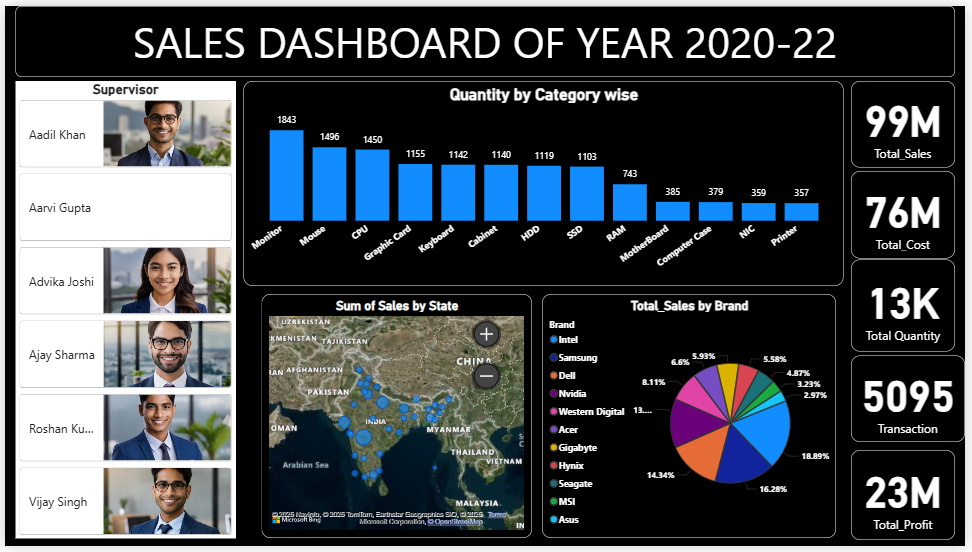

This screenshot's page, from the dashboard's own definition file:
{"tool":"powerbi","page":{"name":"Page 1","canvas":[1280,720],"ordinal":0},"visuals":[{"type":"textbox","box":[13.2,0,1252.9,94.5],"z":0},{"type":"card","fields":{"Values":["Sum(Sales_Data.Total_Sales)"]},"box":[1128.4,99.4,138.6,115.1],"z":1000},{"type":"card","fields":{"Values":["Sum(Sales_Data.Quantity)"]},"box":[1128.4,338.7,138.6,122.9],"z":2000},{"type":"card","fields":{"Values":["Sum(Sales_Data.Total_Cost)"]},"box":[1128.4,219.7,138.6,116.4],"z":3000},{"type":"card","fields":{"Values":["CountNonNull(Sales_Data.Order_Number)"]},"box":[1128.3,465.5,151.7,115.1],"z":4000},{"type":"card","fields":{"Values":["Sum(Sales_Data.Total_Profit)"]},"box":[1128.4,591,138.6,120.3],"z":5000},{"type":"columnChart","title":"Quantity by Category wise","fields":{"Category":["Sales_Data.Category"],"Y":["Sum(Sales_Data.Quantity)"]},"box":[317.7,99.4,800.2,273.3],"z":6000},{"type":"pieChart","title":"Total_Sales by Brand","fields":{"Category":["Sales_Data.Brand"],"Y":["Sum(Sales_Data.Total_Sales)"]},"box":[716.5,384.4,392.3,325.6],"z":7000},{"type":"map","fields":{"Category":["State_list.State"],"Size":["Sum(Sales_Data.Sales)"]},"box":[342.2,384.6,360.4,325.6],"z":8000},{"type":"advancedSlicerVisual","fields":{"Values":["Supervisor.Supervisor"]},"box":[13.6,99.9,293.8,610.2],"z":9000}]}

Visuals, with their boxes in screenshot pixels (x1, y1, x2, y2), scaled from the page's 1280x720 canvas onto the 972x552 screenshot:
textbox: 10, 0, 961, 72
card - Sum(Sales_Data.Total_Sales): 857, 76, 962, 164
card - Sum(Sales_Data.Quantity): 857, 260, 962, 354
card - Sum(Sales_Data.Total_Cost): 857, 168, 962, 258
card - CountNonNull(Sales_Data.Order_Number): 857, 357, 971, 445
card - Sum(Sales_Data.Total_Profit): 857, 453, 962, 545
"Quantity by Category wise" columnChart: 241, 76, 849, 286
"Total_Sales by Brand" pieChart: 544, 295, 842, 544
map - State_list.State x Sum(Sales_Data.Sales): 260, 295, 534, 544
advancedSlicerVisual - Supervisor.Supervisor: 10, 77, 233, 544
